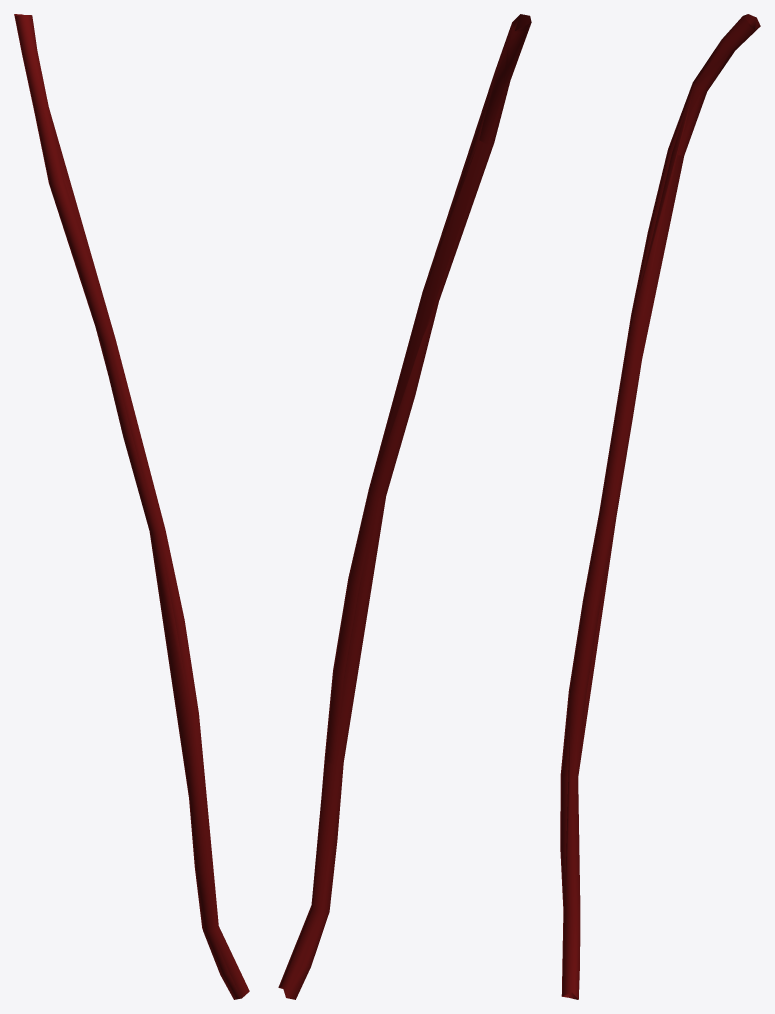
File: L metatarseae plantares II.fbx
3 views of the same model, side by side, from view 1: azimuth 30°, elevation 25°; view 2: azimuth 210°, elevation 25°; view 3: azimuth 270°, elevation 25° (orthographic). The views are drawn at different scales.
Visible parts, largest first — view 1: L metatarseae plantares II, L metatarseae plantares II low; view 2: L metatarseae plantares II low, L metatarseae plantares II; view 3: L metatarseae plantares II, L metatarseae plantares II low.
Part boxes in pixels (x1,y1,x2,y2): L metatarseae plantares II: [14, 14, 241, 999]; L metatarseae plantares II low: [14, 14, 249, 997]; L metatarseae plantares II low: [278, 14, 531, 997]; L metatarseae plantares II: [279, 15, 530, 999]; L metatarseae plantares II: [560, 16, 760, 998]; L metatarseae plantares II low: [561, 14, 756, 999].
Size of the model in its own units: 1.85 by 11.48 by 2.26.
